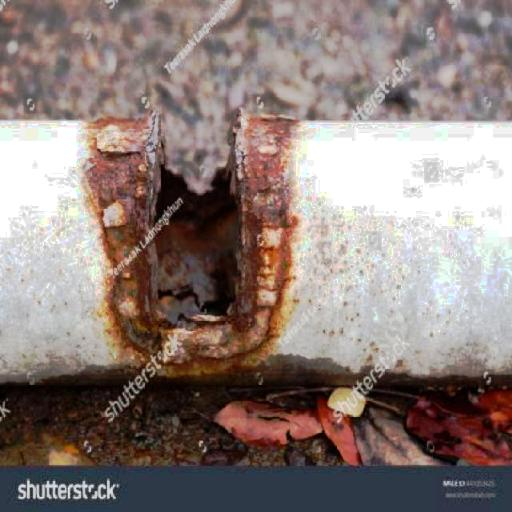corrosion: (88, 114, 295, 364)
